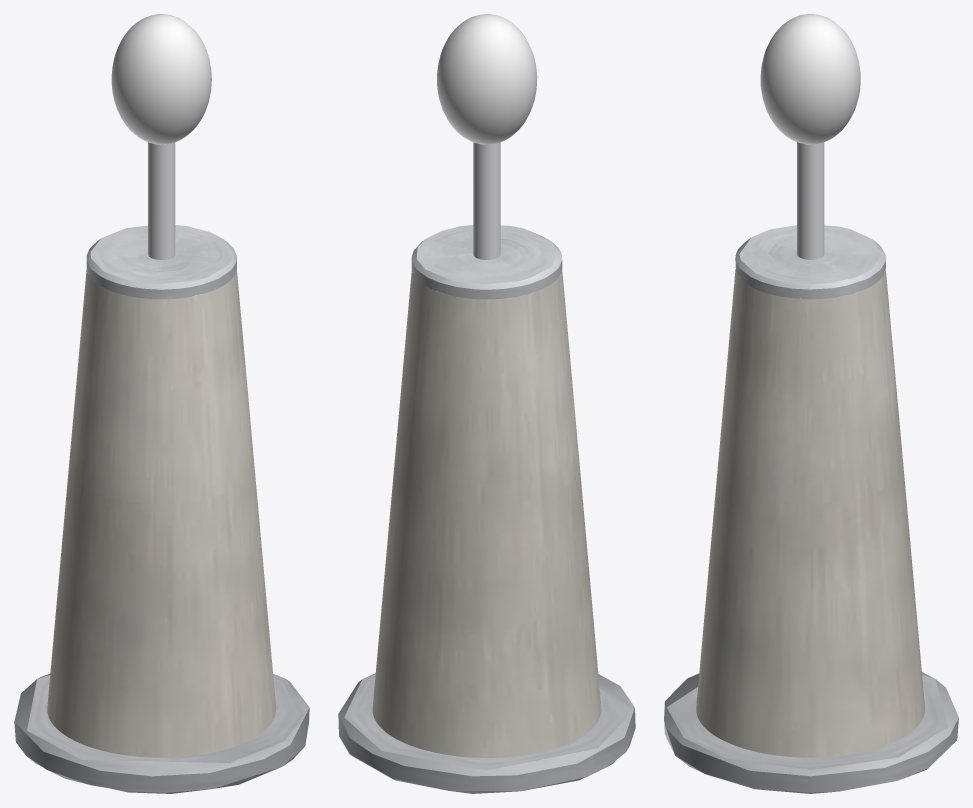
The model's file is ferro-orbis_bishop_white.glb.
3 views of the same model, side by side, from view 1: azimuth 30°, elevation 25°; view 2: azimuth 150°, elevation 25°; view 3: azimuth 270°, elevation 25° (orthographic).
Visible parts, largest first — view 1: ferro-orbis_bishop_white; view 2: ferro-orbis_bishop_white; view 3: ferro-orbis_bishop_white.
Boxes of the visible parts, box(x1,y1,x2,y2) form: ferro-orbis_bishop_white: box(14, 14, 309, 793); ferro-orbis_bishop_white: box(338, 14, 635, 793); ferro-orbis_bishop_white: box(664, 14, 958, 793).
Size of the model in its own units: 0.0308 by 0.082 by 0.0307.
Materials: 5 (3 with a texture image).
